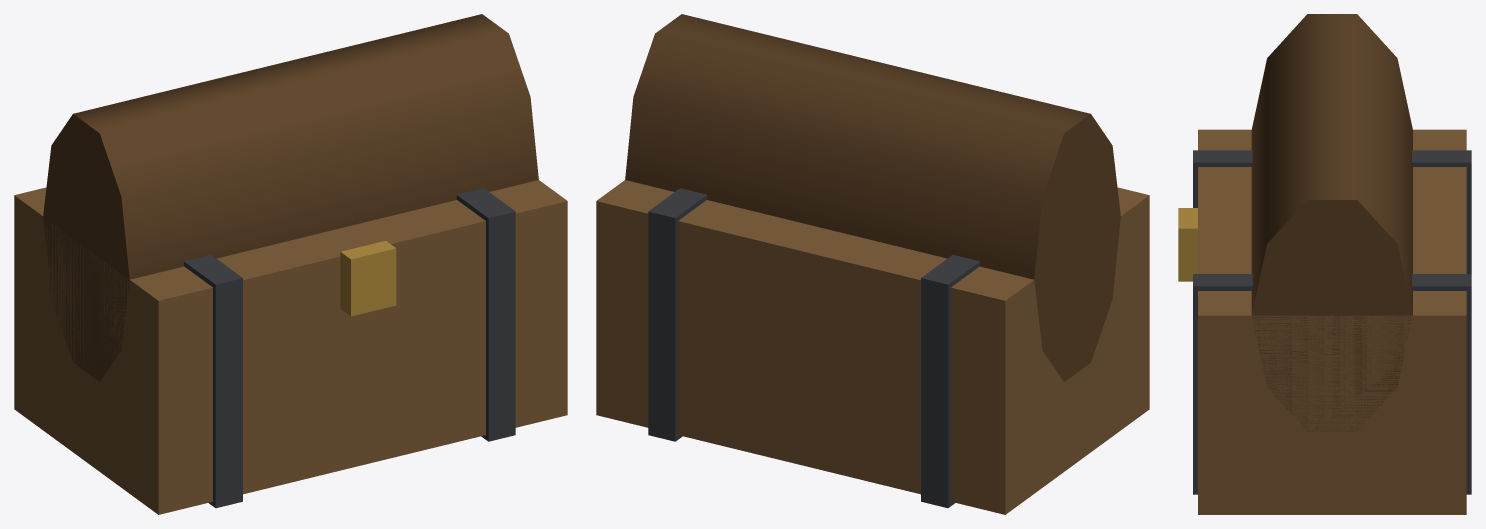
The model's file is chest.glb.
The picture shows the model from 3 angles, left to right: view 1: azimuth 30°, elevation 25°; view 2: azimuth 150°, elevation 25°; view 3: azimuth 270°, elevation 25°; orthographic projection. The views are drawn at different scales.
Visible parts, largest first — view 1: chest_body, chest_lid, chest_band (×2), chest_lock; view 2: chest_body, chest_lid, chest_band (×2); view 3: chest_body, chest_lid, chest_band (×2), chest_lock.
Boxes of the visible parts, bbox=[...] form: chest_body: bbox=[14, 180, 567, 514]; chest_lid: bbox=[43, 14, 538, 381]; chest_band (×2): bbox=[183, 188, 515, 508]; chest_lock: bbox=[340, 240, 396, 316]; chest_body: bbox=[596, 180, 1149, 514]; chest_lid: bbox=[625, 14, 1120, 381]; chest_band (×2): bbox=[648, 188, 980, 508]; chest_body: bbox=[1198, 129, 1466, 514]; chest_lid: bbox=[1251, 14, 1412, 431]; chest_band (×2): bbox=[1193, 150, 1471, 494]; chest_lock: bbox=[1178, 208, 1197, 281].
Bounding box in the file's own units: 0.9 × 0.7215 × 0.6.
